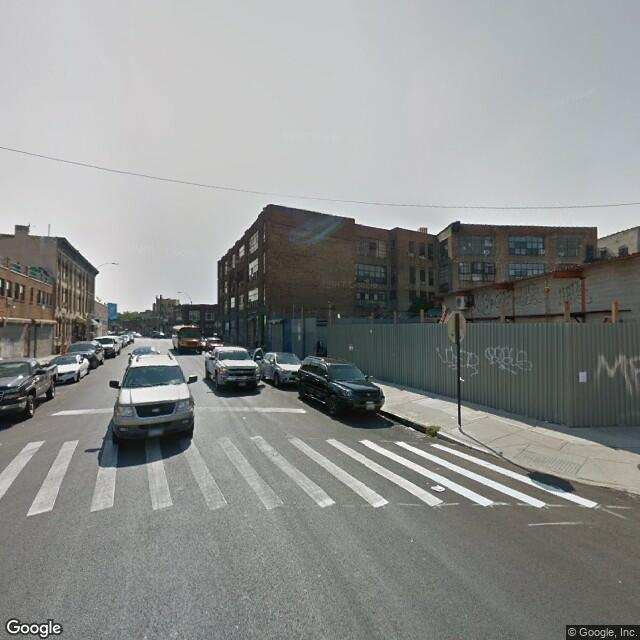litter: (429, 478, 446, 503)
